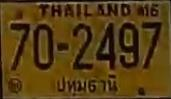0: (33, 23, 53, 69)
2: (72, 22, 91, 69)
4: (95, 22, 115, 68)
7: (141, 20, 161, 68), (10, 22, 29, 70)
9: (118, 22, 138, 67)
PTE: (53, 75, 120, 98)
